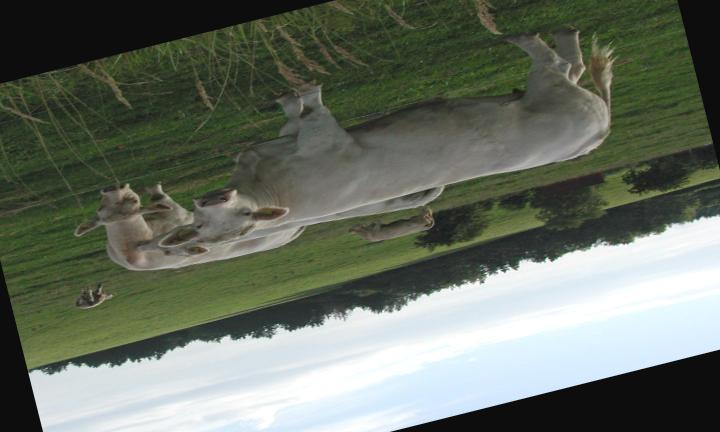Charolais: (162, 28, 612, 246), (75, 184, 293, 270)
